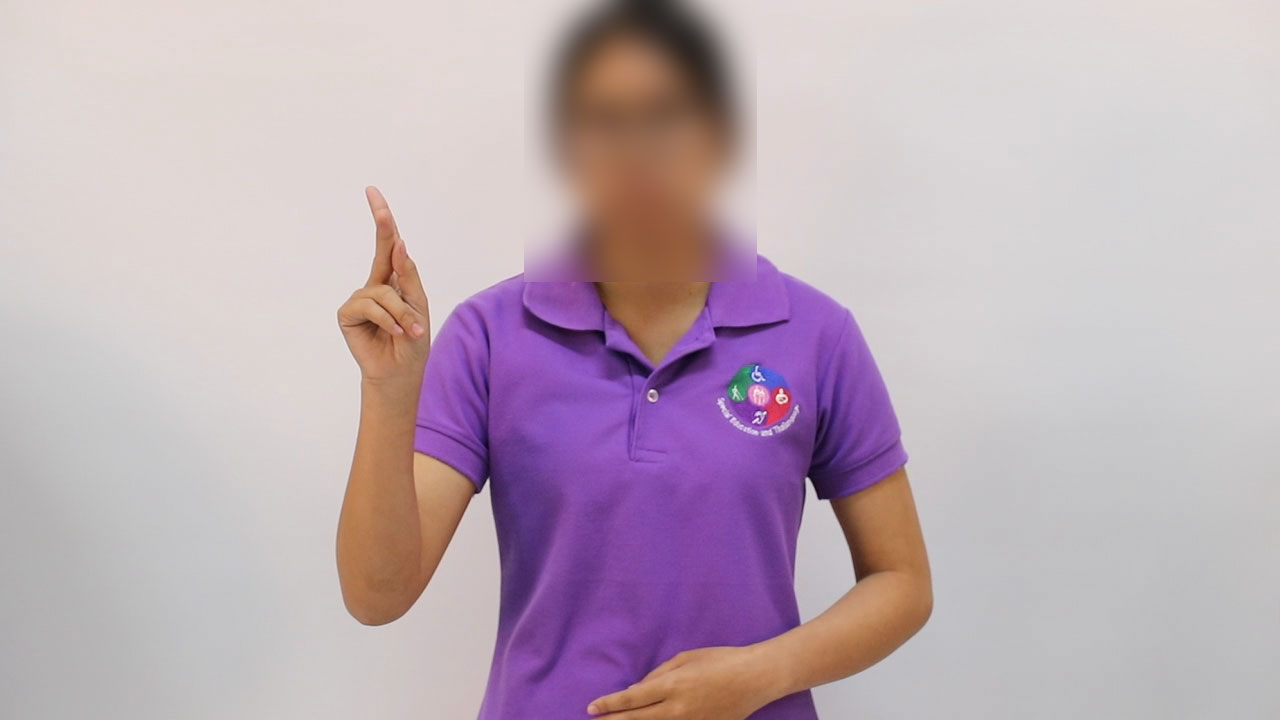ko: (315, 177, 450, 379)
